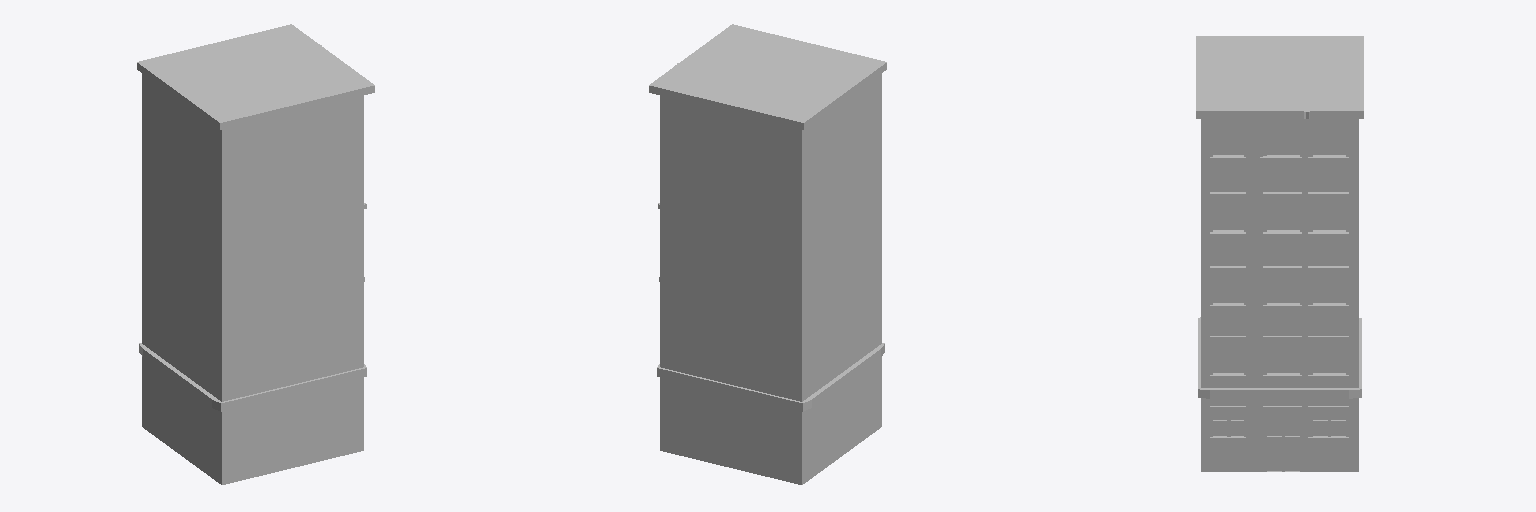
File: r_kelly_building.obj
3 renders of one model, left to right at view 1: azimuth 30°, elevation 25°; view 2: azimuth 150°, elevation 25°; view 3: azimuth 270°, elevation 25°, orthographic.
Visible parts, largest first — view 1: pCube1; view 2: pCube1; view 3: pCube1.
Boxes of the visible parts, box(x1,y1,x2,y2) form: pCube1: box(137, 24, 374, 484); pCube1: box(649, 24, 886, 484); pCube1: box(1196, 36, 1363, 471).
Bounding box in the file's own units: 2.39 × 5.29 × 2.2.